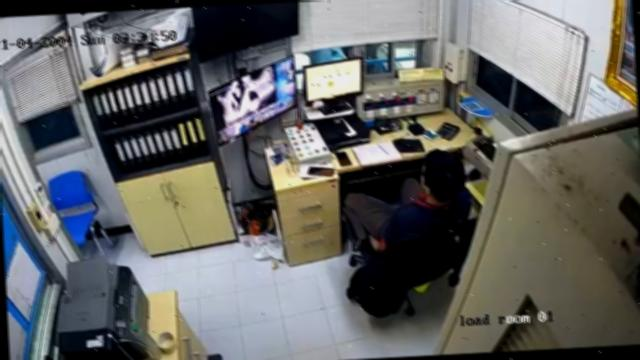Head: (420, 148, 466, 201)
People: (344, 150, 472, 250)
Phone: (333, 152, 352, 165), (307, 167, 334, 175)
